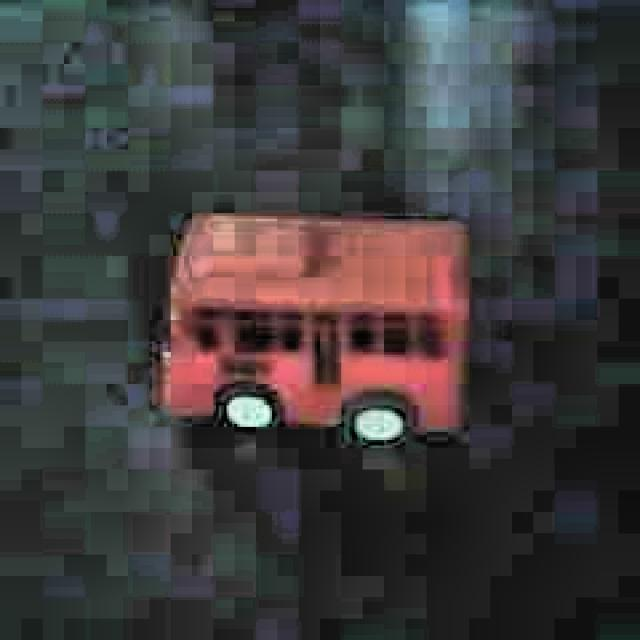bus: (158, 207, 472, 456)
